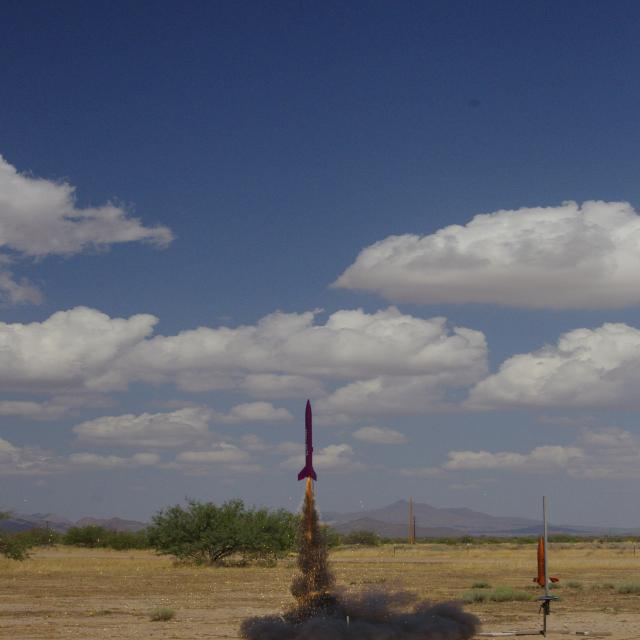Rocket: (298, 398, 317, 482), (532, 537, 560, 587)
